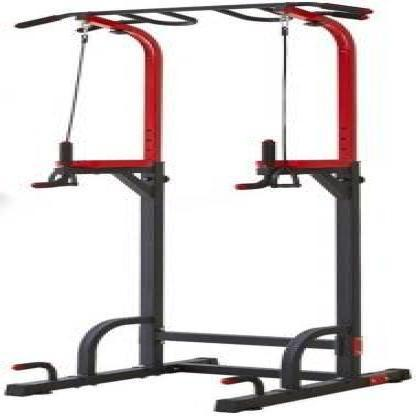chinning dipping: (10, 1, 406, 412)
